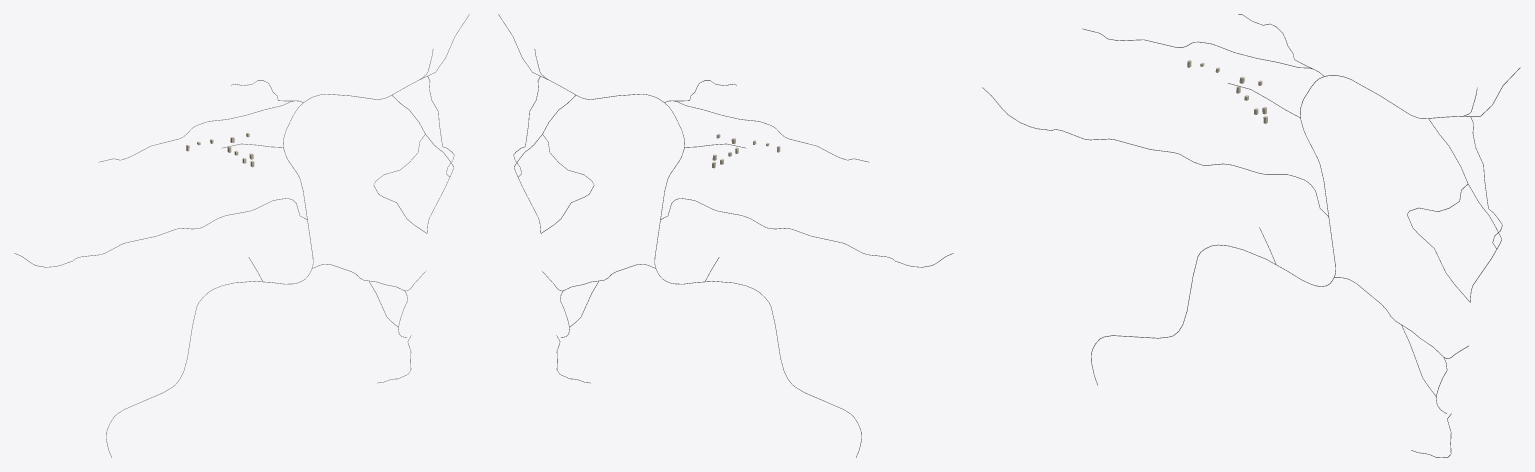
Rendered from historic-palestine-09_19_3509_3133.glb.
3 views of the same model, side by side, from view 1: azimuth 30°, elevation 25°; view 2: azimuth 150°, elevation 25°; view 3: azimuth 330°, elevation 25° (orthographic). The views are drawn at different scales.
Size of the model in its own units: 1283 by 960 by 8.7.
